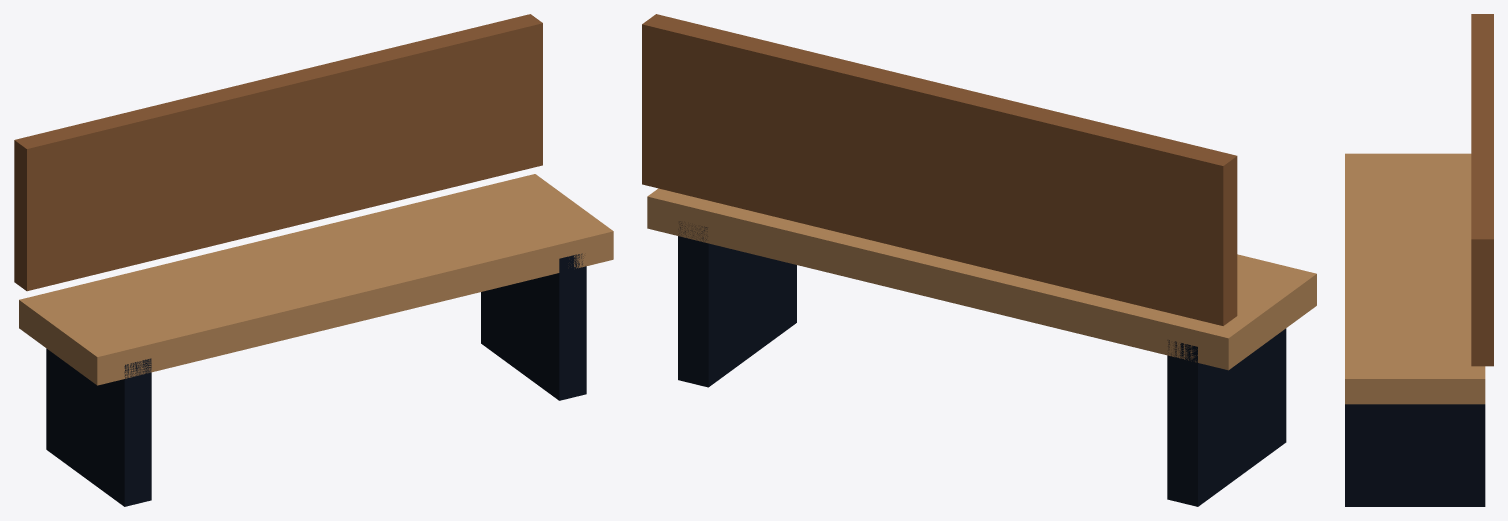
The model's file is prop_bench.glb.
The picture shows the model from 3 angles, left to right: view 1: azimuth 30°, elevation 25°; view 2: azimuth 150°, elevation 25°; view 3: azimuth 270°, elevation 25°; orthographic projection. The views are drawn at different scales.
Visible parts, largest first — view 1: prop_bench; view 2: prop_bench; view 3: prop_bench.
Boxes of the visible parts, box(x1,y1,x2,y2) form: prop_bench: box(14, 14, 613, 506); prop_bench: box(642, 14, 1316, 506); prop_bench: box(1345, 14, 1493, 506).
Size of the model in its own units: 1.9 by 1.1 by 0.53.
Materials: 1 (1 with a texture image).
